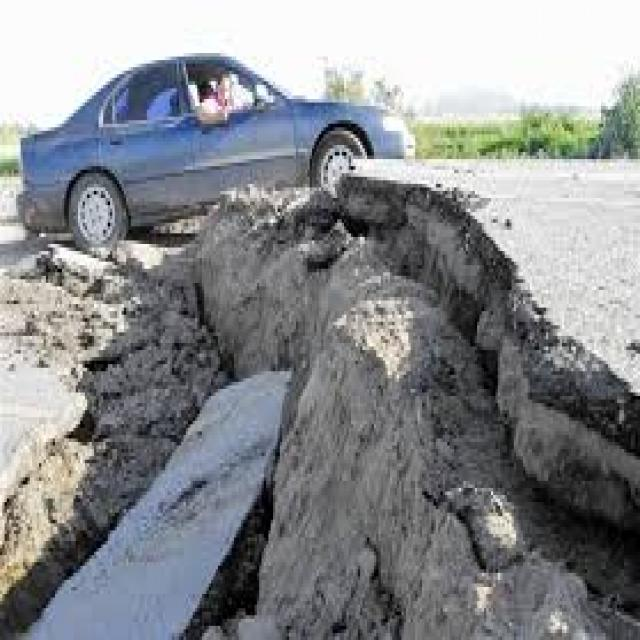Earthquake: (78, 39, 638, 640)
